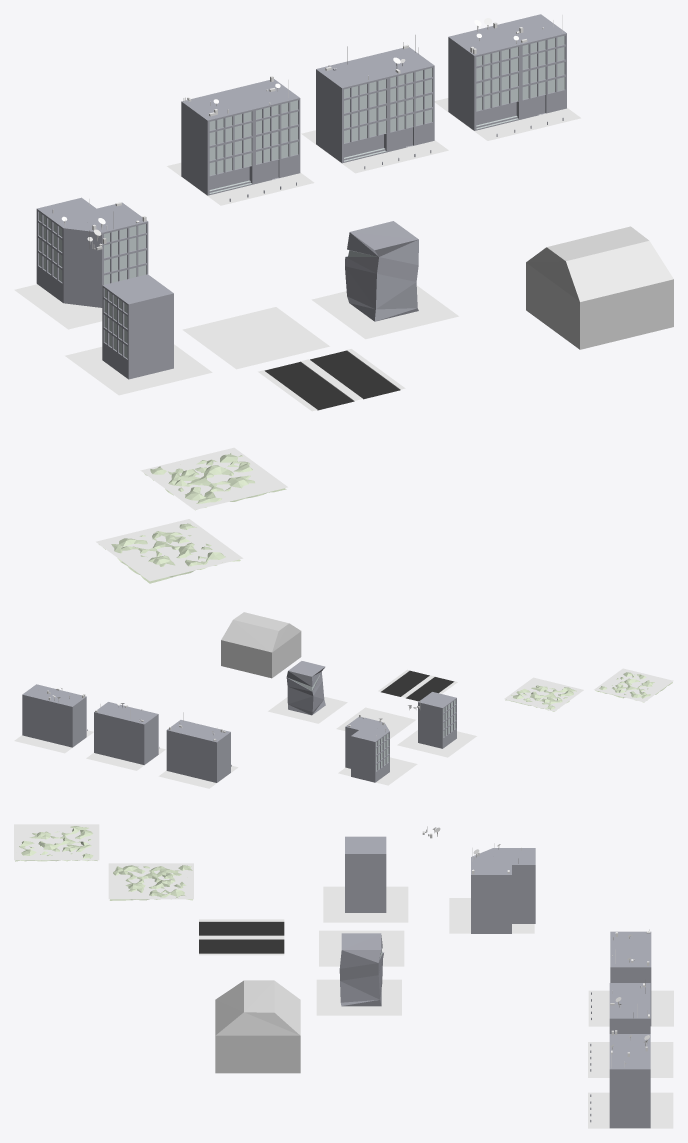
Rendered from corridor_limat_assets_001.dae.
3 renders of one model, top to bottom at view 1: azimuth 30°, elevation 25°; view 2: azimuth 150°, elevation 25°; view 3: azimuth 270°, elevation 25°, orthographic. The views are drawn at different scales.
Visible parts, largest first — view 1: villa, double_building_c, double_building_a, double_building_b, junction_building, lone_building, fancy_building, green_area_1, green_area_2, road, fake_floor; view 2: villa, double_building_b, double_building_a, double_building_c, junction_building, lone_building, fancy_building, green_area_1, green_area_2, road, fake_floor; view 3: villa, junction_building, double_building_c, lone_building, fancy_building, double_building_a, double_building_b, green_area_2, green_area_1, road, fake_floor.
Boxes of the visible parts, left/top/right/bottom form: villa: left=526, top=226, right=673, bottom=349; double_building_c: left=434, top=14, right=580, bottom=140; double_building_a: left=167, top=76, right=314, bottom=205; double_building_b: left=301, top=35, right=448, bottom=173; junction_building: left=14, top=197, right=148, bottom=329; lone_building: left=65, top=274, right=212, bottom=395; fancy_building: left=311, top=221, right=458, bottom=339; green_area_1: left=96, top=519, right=243, bottom=583; green_area_2: left=140, top=447, right=287, bottom=510; road: left=258, top=349, right=405, bottom=411; fake_floor: left=182, top=307, right=329, bottom=369; villa: left=221, top=612, right=301, bottom=678; double_building_b: left=86, top=702, right=165, bottom=770; double_building_a: left=158, top=712, right=238, bottom=788; double_building_c: left=14, top=684, right=93, bottom=753; junction_building: left=338, top=714, right=417, bottom=785; lone_building: left=397, top=692, right=476, bottom=757; fancy_building: left=268, top=661, right=347, bottom=723; green_area_1: left=594, top=668, right=673, bottom=702; green_area_2: left=504, top=677, right=583, bottom=711; road: left=378, top=669, right=457, bottom=701; fake_floor: left=336, top=707, right=415, bottom=738; villa: left=215, top=980, right=300, bottom=1073; junction_building: left=449, top=843, right=535, bottom=933; double_building_c: left=588, top=1030, right=673, bottom=1128; lone_building: left=323, top=836, right=408, bottom=922; fancy_building: left=316, top=933, right=401, bottom=1015; double_building_a: left=588, top=929, right=673, bottom=1026; double_building_b: left=588, top=980, right=673, bottom=1077; green_area_2: left=108, top=863, right=193, bottom=900; green_area_1: left=14, top=824, right=99, bottom=861; road: left=199, top=919, right=284, bottom=955; fake_floor: left=319, top=930, right=404, bottom=966.
Bounding box in the file's own units: 16.97 × 15.48 × 2.31.
